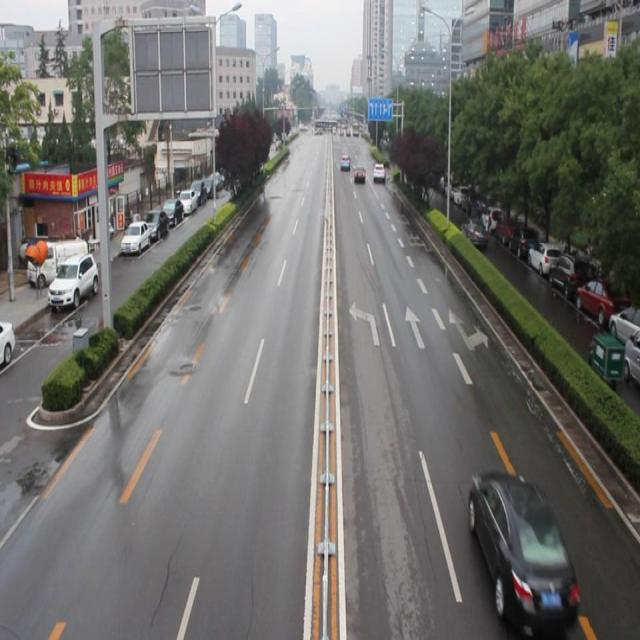car: (467, 472, 580, 625), (371, 163, 386, 182), (352, 164, 366, 183)
